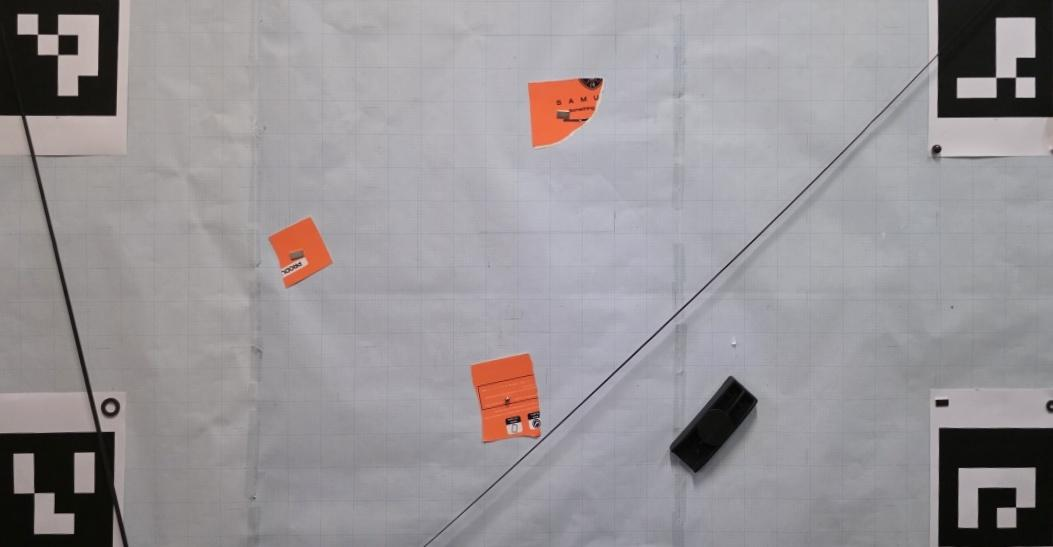obstacle: (670, 377, 758, 472), (472, 354, 541, 442), (527, 77, 604, 148), (268, 217, 333, 289)
